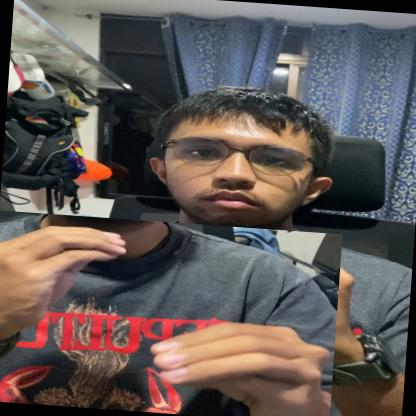Fix: (0, 210, 342, 416)
